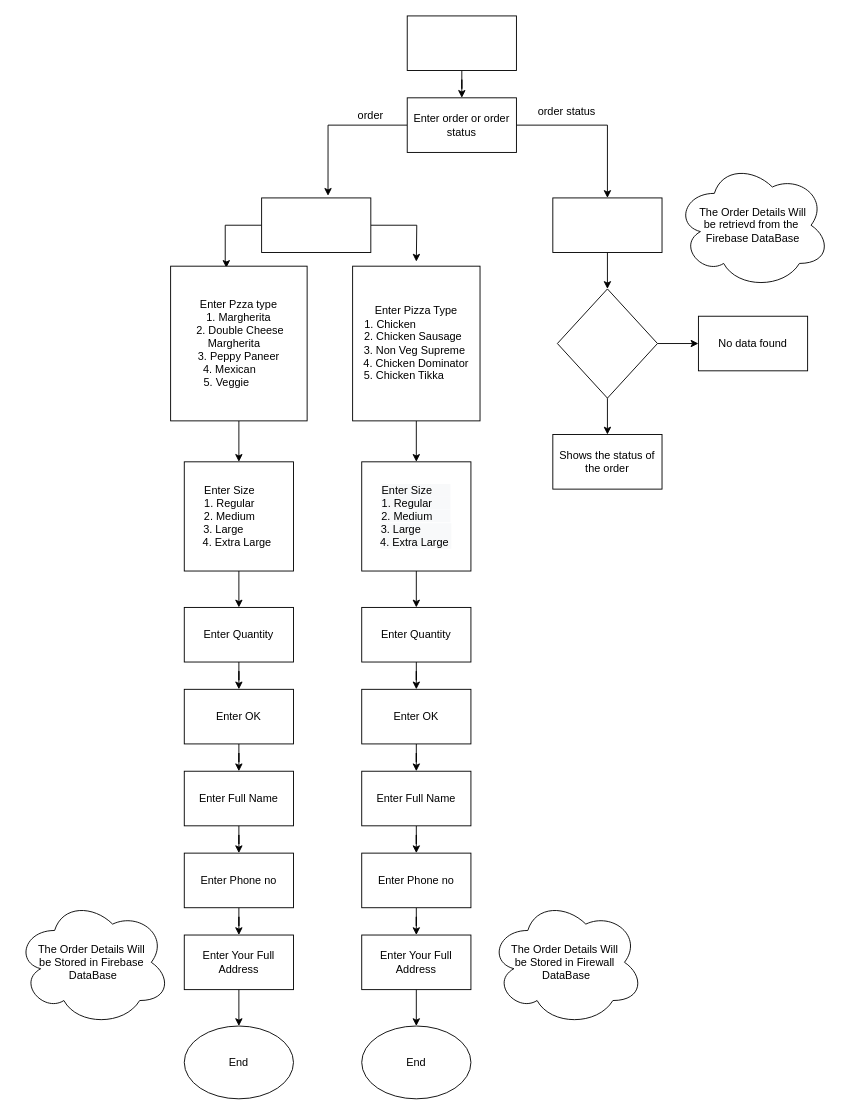
Image size: 846x1115. Some labels were removed from this diagram. Each missing label, with the centre of its shape:
Enter order ID: the point at 607,225
Enter veg or non veg: the point at 316,225
If Order ID exists: the point at 606,343
Welcome: the point at 461,43
